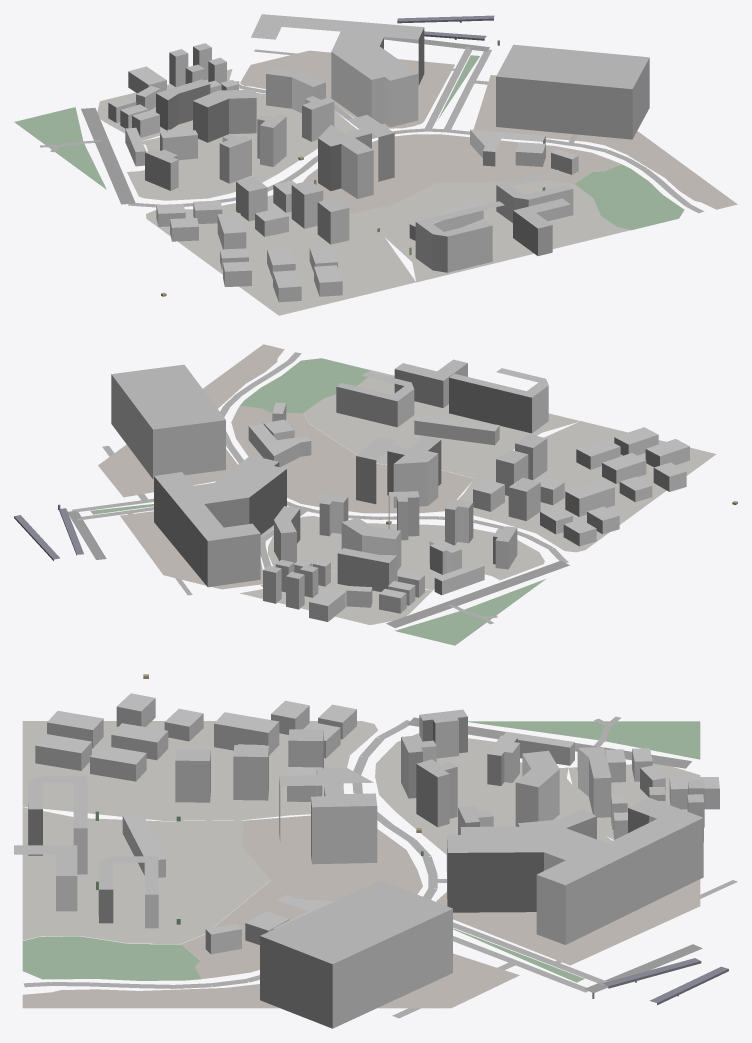
The picture shows the model from 3 angles, top to bottom: view 1: azimuth 30°, elevation 25°; view 2: azimuth 150°, elevation 25°; view 3: azimuth 270°, elevation 25°; orthographic projection. The views are drawn at different scales.
Size of the model in its own units: 611 by 54.82 by 534.
